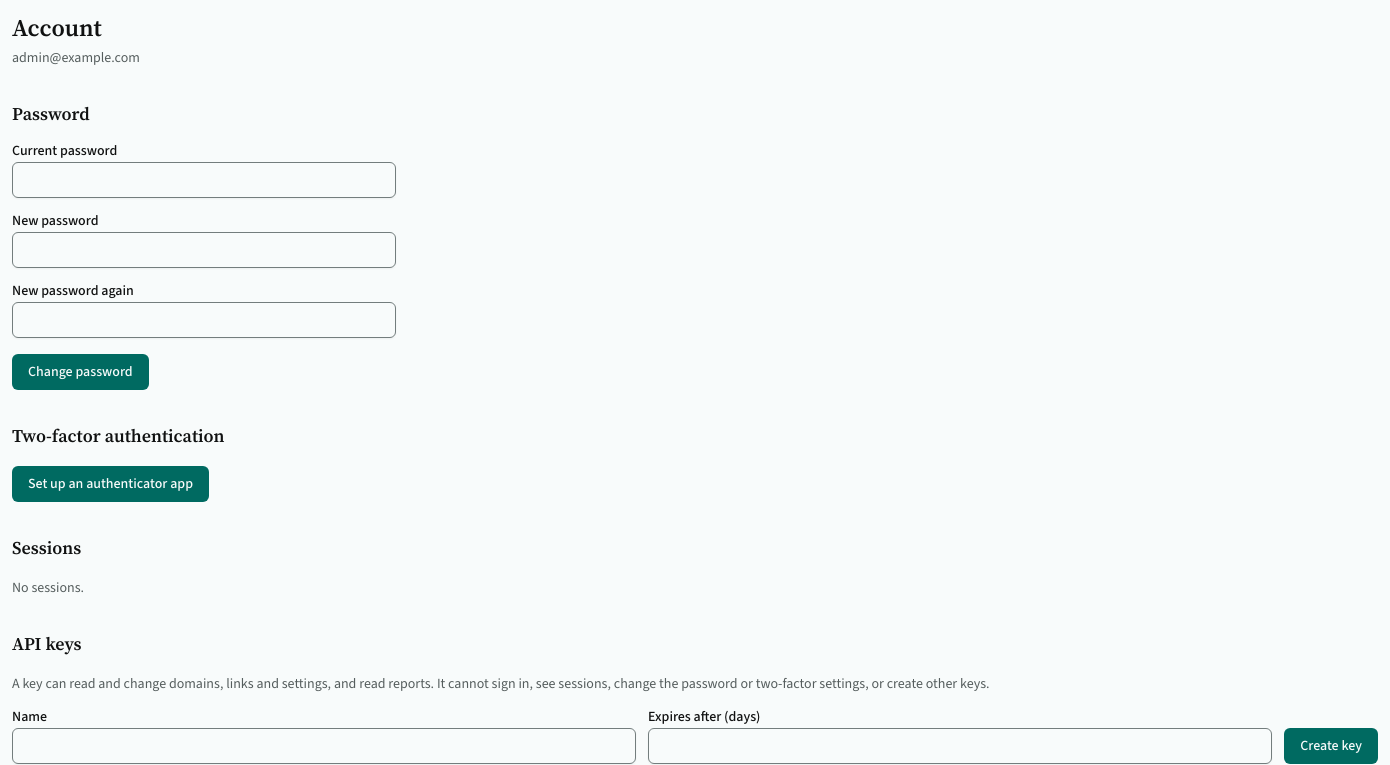
the account screen › says "1 other session" in the singular, not "1 other sessions"
The image size is (1390, 765).
Type "the old one" into the password field labelled "Current password" at (204, 180), box [12,162,396,198]
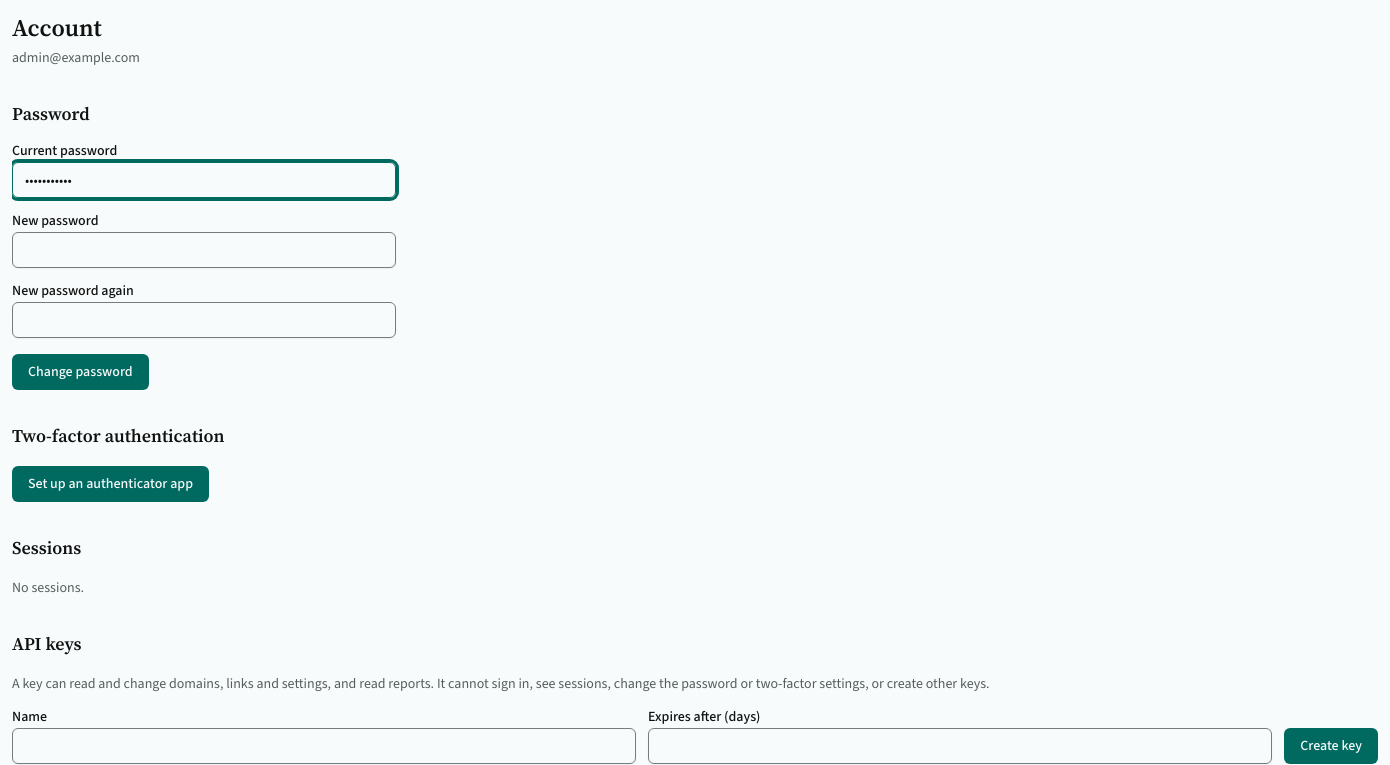
Type "a new decent password" into the password field labelled "New password" at (204, 250), box [12,232,396,268]
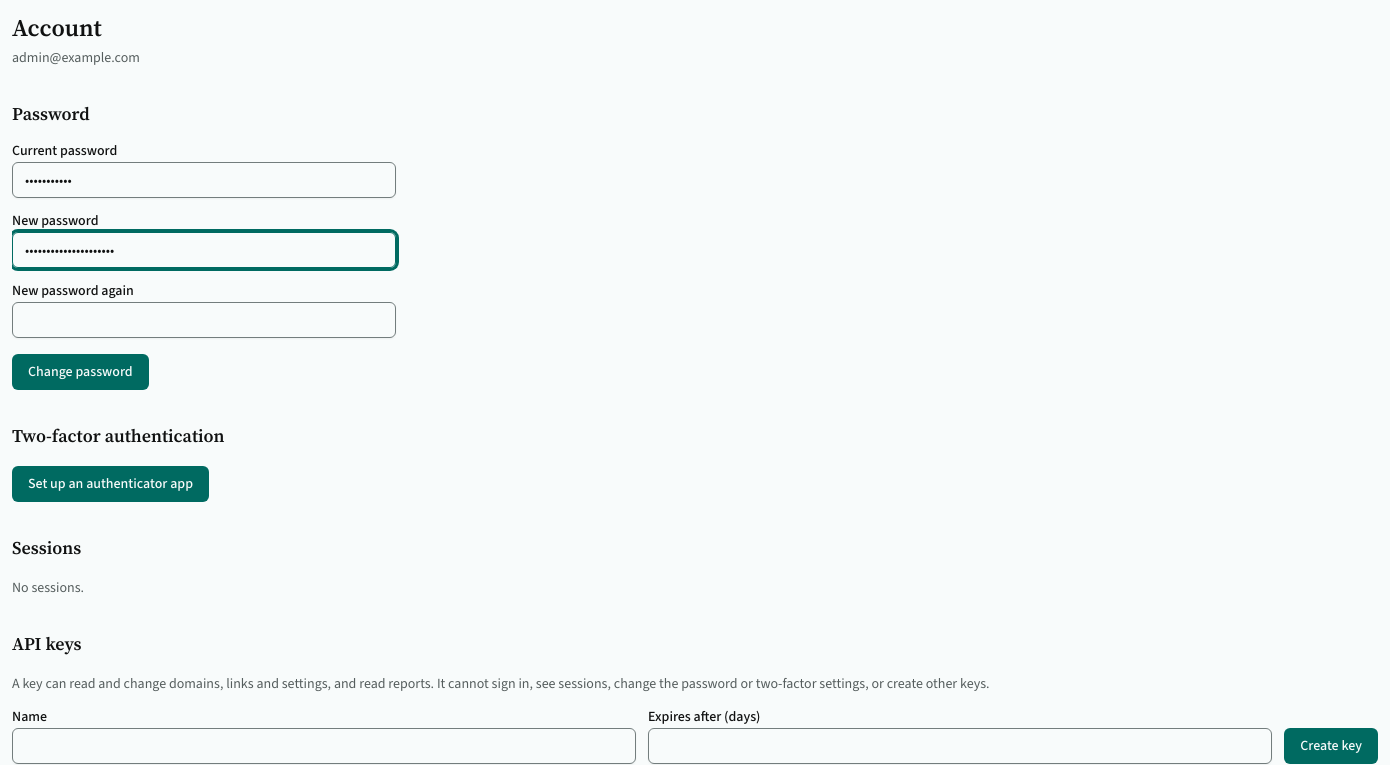
Type "a new decent password" into the password field labelled "New password again" at (204, 320), box [12,302,396,338]
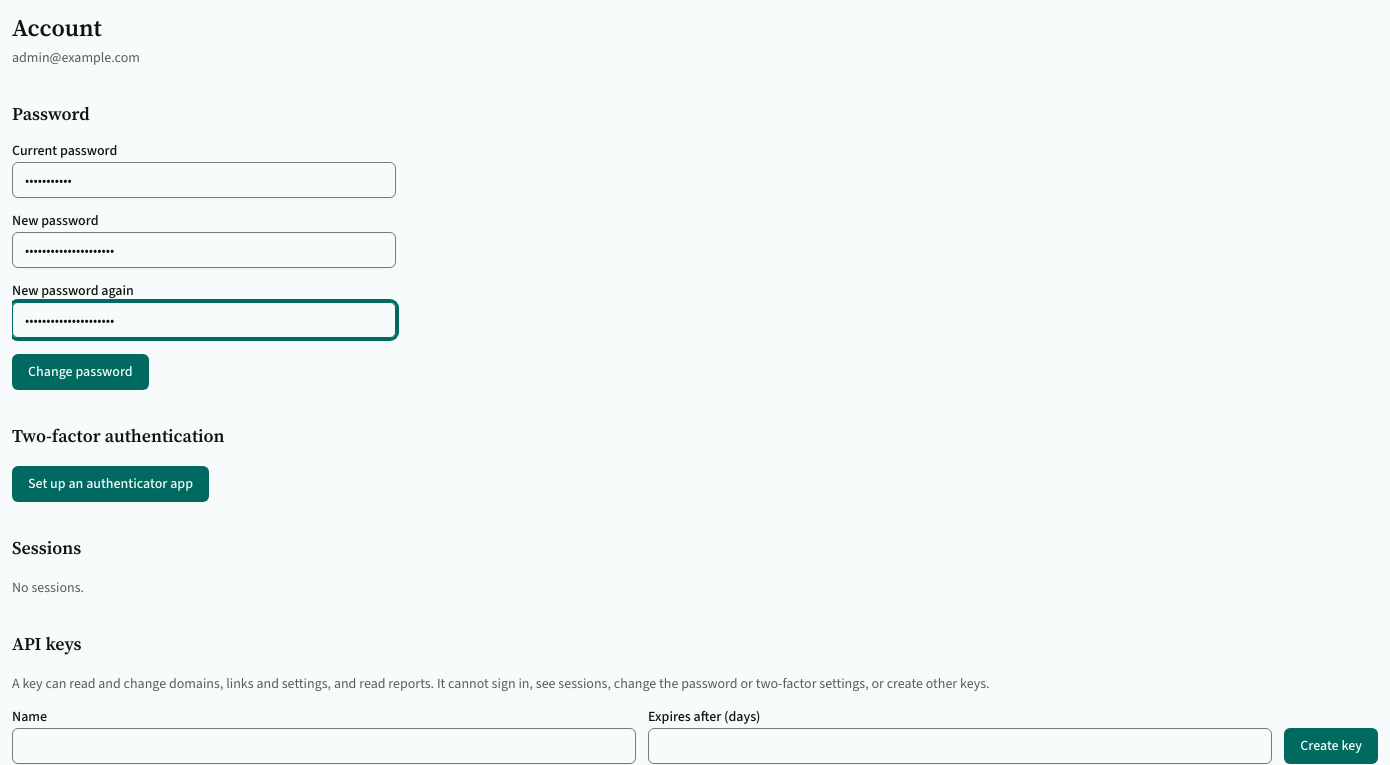
Click the button "Change password" at (80, 372), box [12,354,149,390]
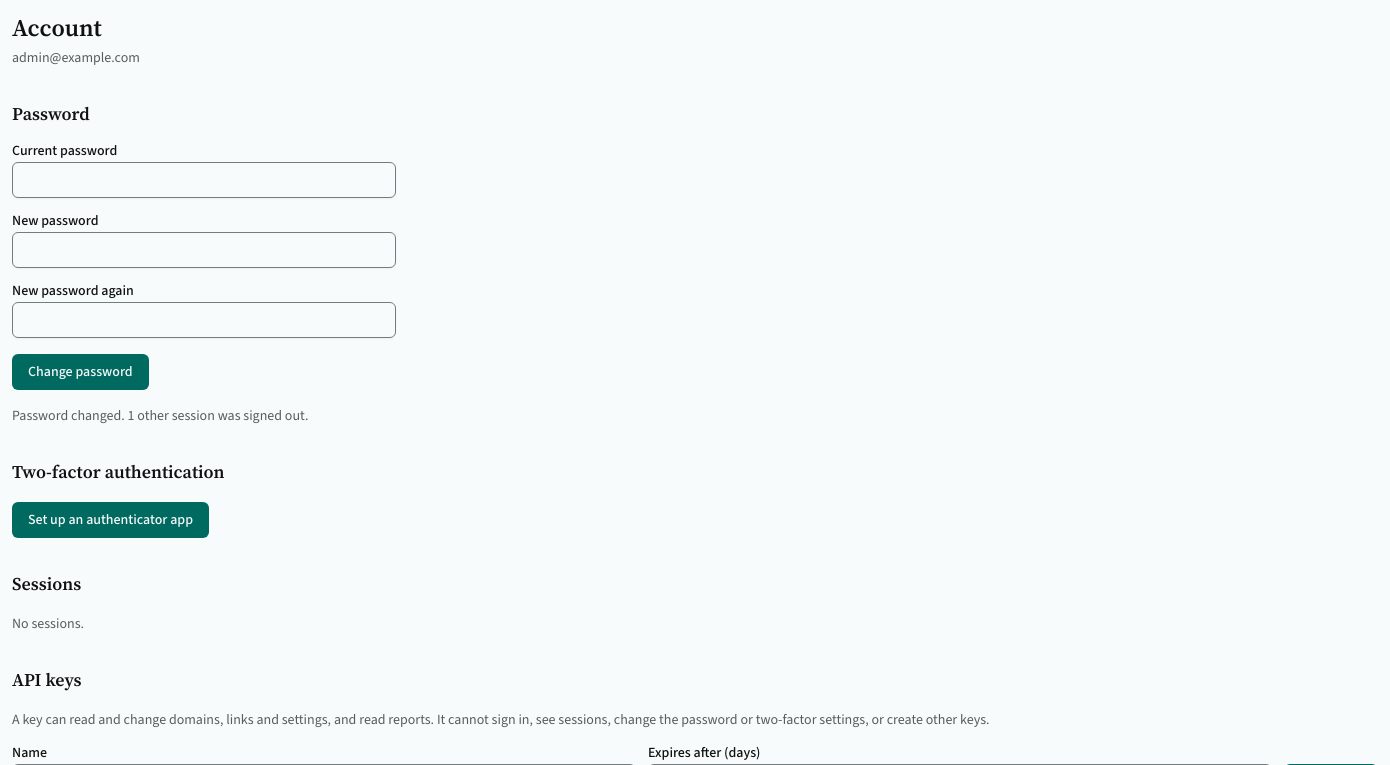
expect the text "Password changed. 1 other session was signed out." is shown: met, box [12,406,308,425]
